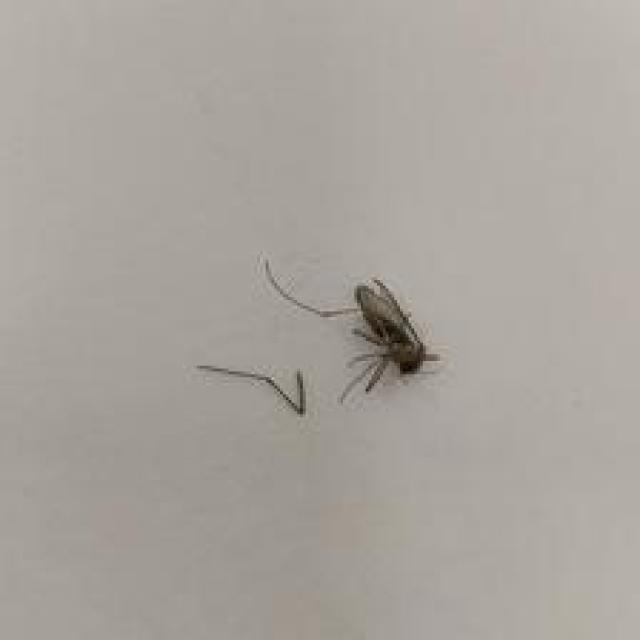Culex: (262, 254, 442, 406)
